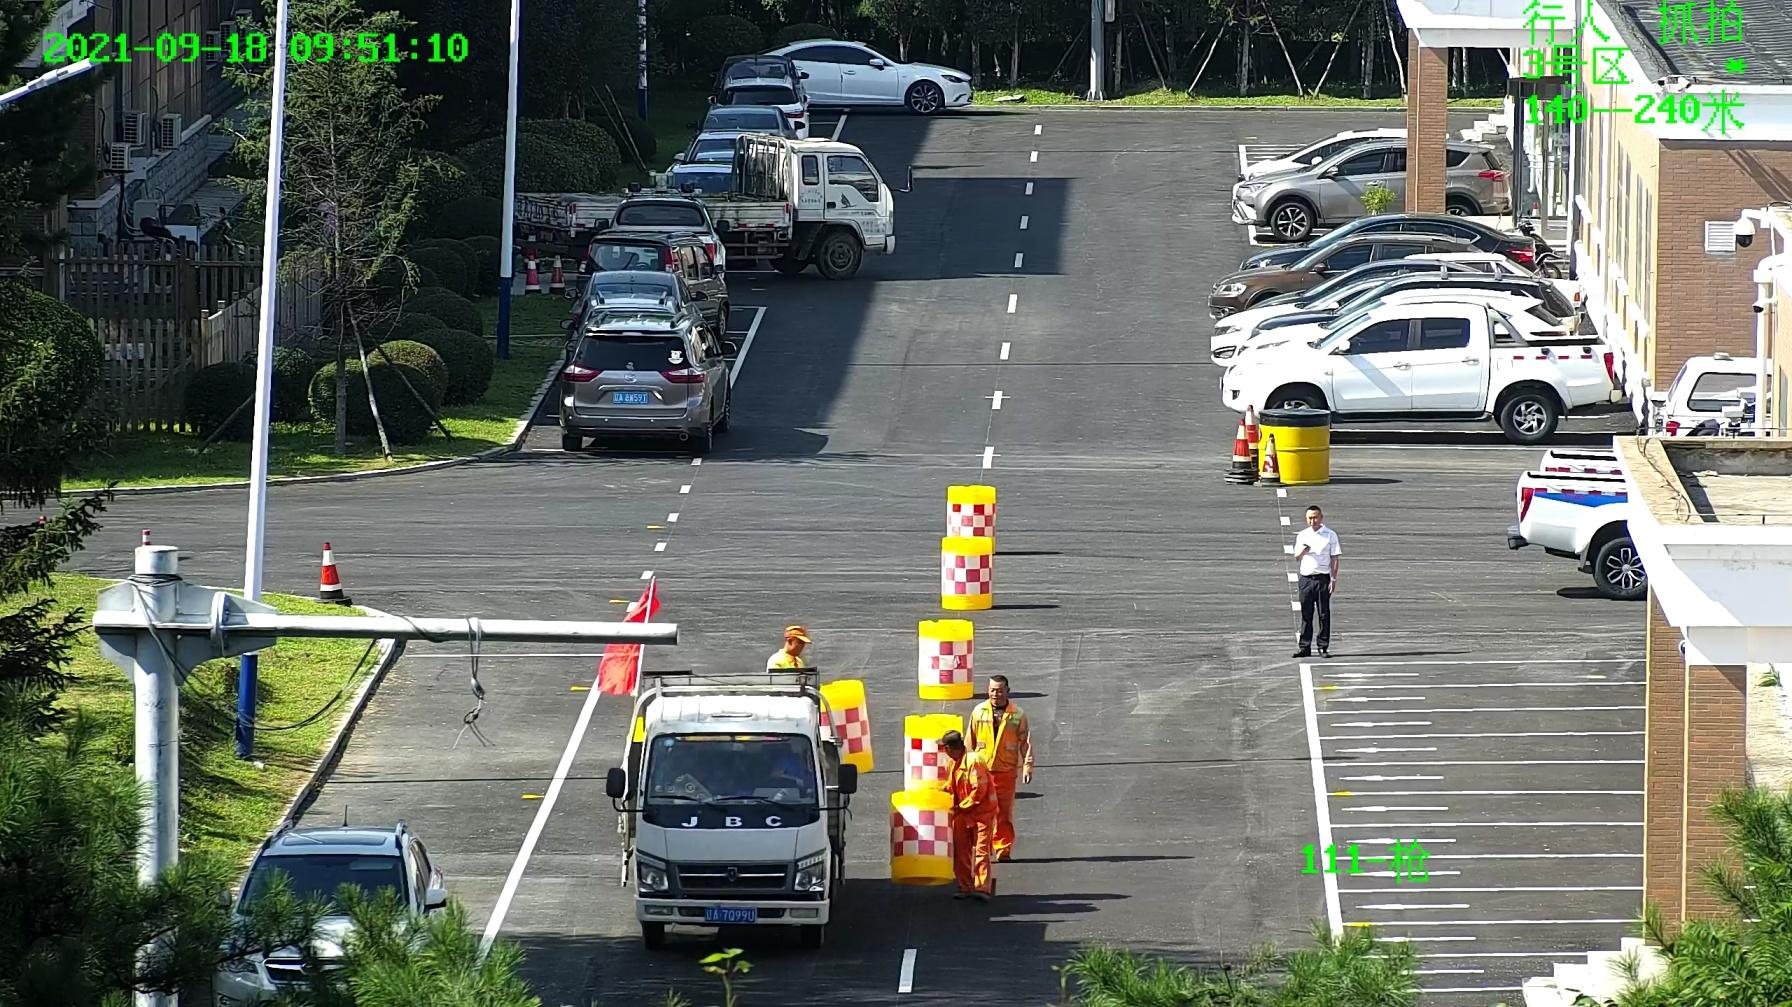cone_barrel: (889, 794, 951, 888), (817, 681, 871, 776), (918, 620, 972, 705), (939, 533, 997, 608), (903, 716, 954, 793), (945, 483, 997, 536)
